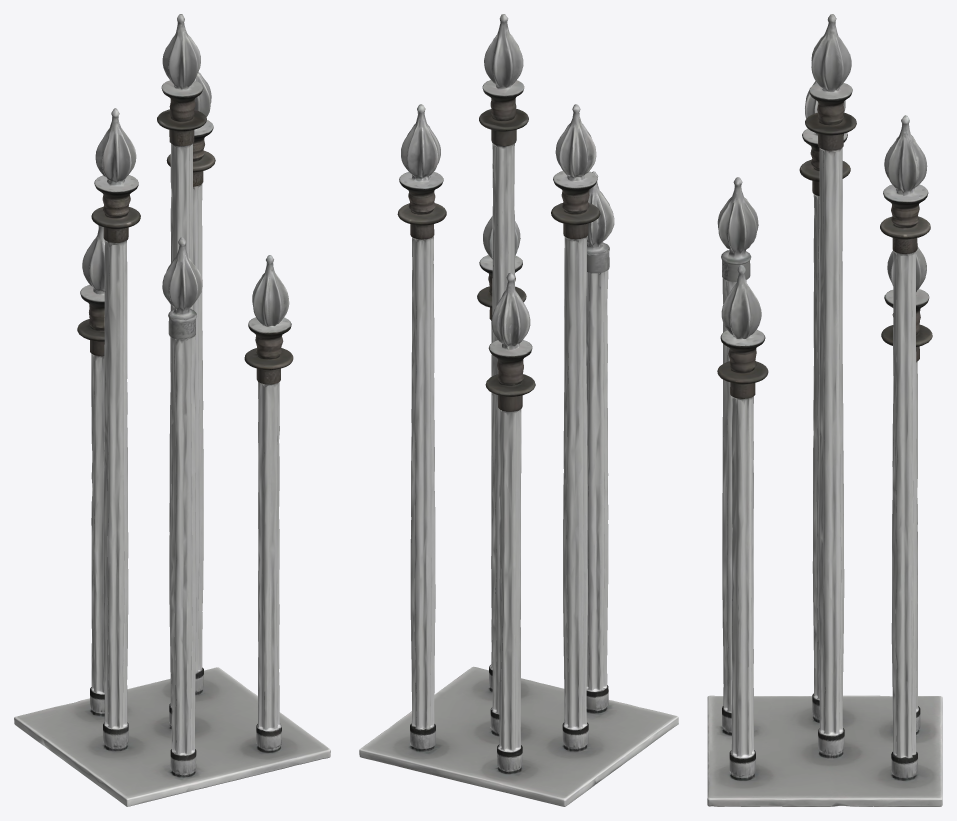
The model's file is design-lamp-glass-rod.glb.
3 renders of one model, left to right at view 1: azimuth 30°, elevation 25°; view 2: azimuth 150°, elevation 25°; view 3: azimuth 270°, elevation 25°, orthographic. The views are drawn at different scales.
Parts seen in each view (by area): view 1: tripo_node_404afcc2-b32b-491e-be7d-0b3cd4112ac7; view 2: tripo_node_404afcc2-b32b-491e-be7d-0b3cd4112ac7; view 3: tripo_node_404afcc2-b32b-491e-be7d-0b3cd4112ac7.
Boxes of the visible parts, x1,y1,x2,y2 form: tripo_node_404afcc2-b32b-491e-be7d-0b3cd4112ac7: (14,14,330,806); tripo_node_404afcc2-b32b-491e-be7d-0b3cd4112ac7: (359,14,678,806); tripo_node_404afcc2-b32b-491e-be7d-0b3cd4112ac7: (707,14,942,806).
Bounding box in the file's own units: 0.2083 × 0.7 × 0.1999.
Materials: 1 (1 with a texture image).
